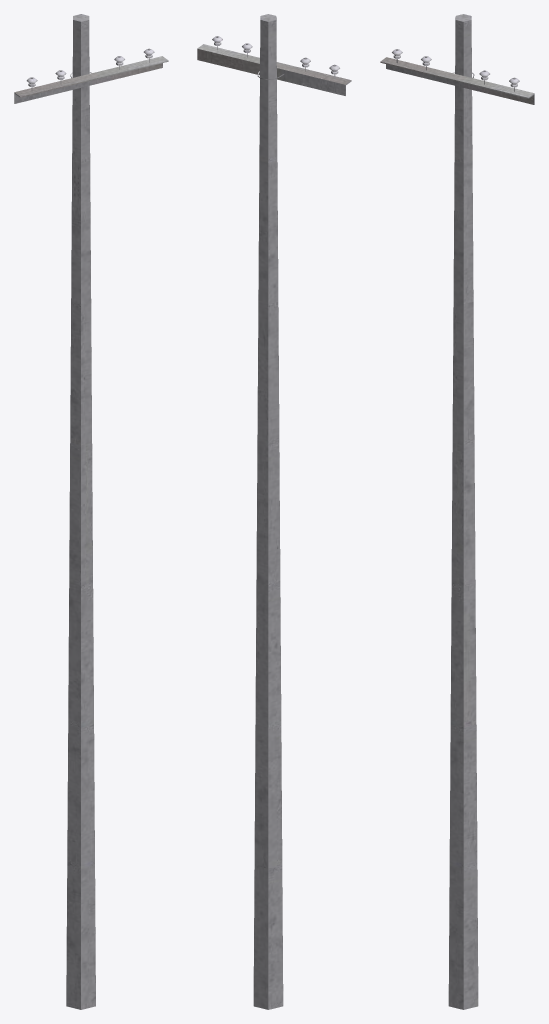
Rendered from xiangan.glb.
3 views of the same model, side by side, from view 1: azimuth 30°, elevation 25°; view 2: azimuth 150°, elevation 25°; view 3: azimuth 330°, elevation 25° (orthographic).
Parts seen in each view (by area): view 1: ??256; view 2: ??256; view 3: ??256.
Part boxes in pixels (left/top/right/bottom): ??256: left=14, top=14, right=168, bottom=1009; ??256: left=197, top=14, right=351, bottom=1009; ??256: left=380, top=14, right=534, bottom=1009.
Bounding box in the file's own units: 1.5 × 9.52 × 0.3305.
1 material, 1 textured.
